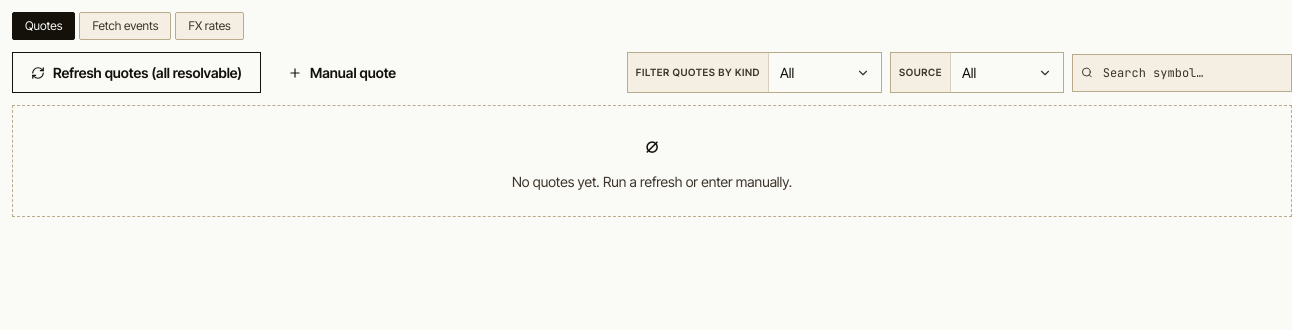
Test case: InstrumentsMarketData — manual quote form › shows manual quote form when button clicked
Click the button "Manual quote": (342, 72) [269,52,415,93]
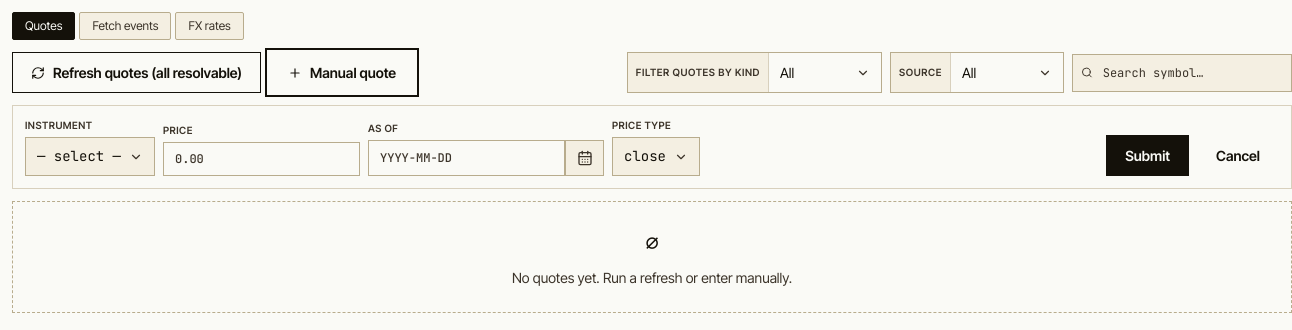
Check: the form named "manual quote form" is shown, box [12,105,1291,189]
